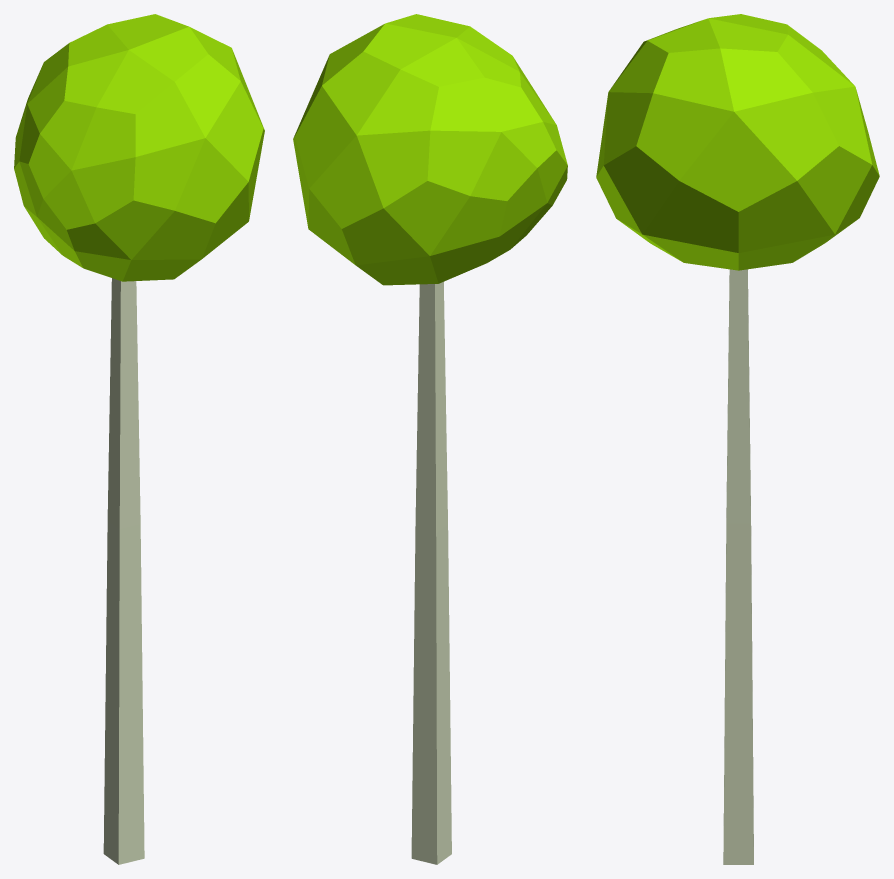
Rendered from sproutZazakTree.glb.
3 renders of one model, left to right at view 1: azimuth 30°, elevation 25°; view 2: azimuth 150°, elevation 25°; view 3: azimuth 270°, elevation 25°, orthographic. The views are drawn at different scales.
Visible parts, largest first — view 1: Icosphere; view 2: Icosphere; view 3: Icosphere.
Part boxes in pixels (x1,y1,x2,y2): Icosphere: (14, 14, 264, 864); Icosphere: (293, 14, 567, 864); Icosphere: (596, 14, 879, 864).
Bounding box in the file's own units: 2.9 × 10 × 3.07.
